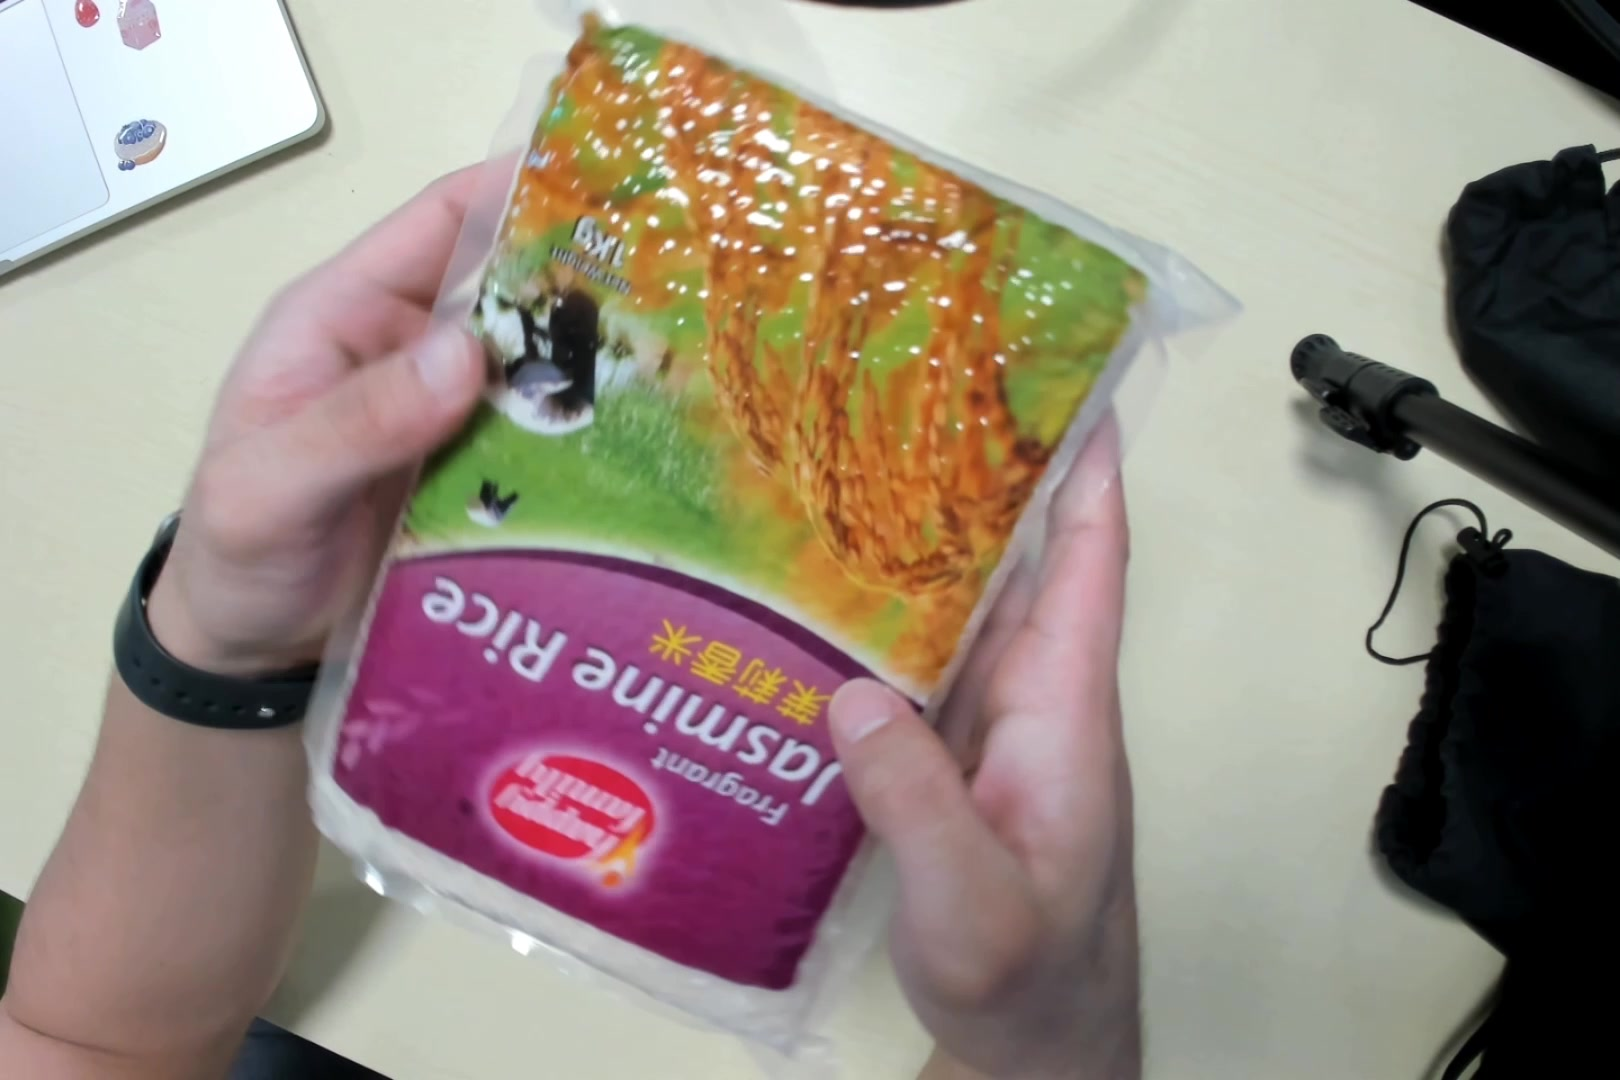Rice(White)_1000-1999g_NonHalal_NonHealthy: (333, 8, 1184, 1029)
